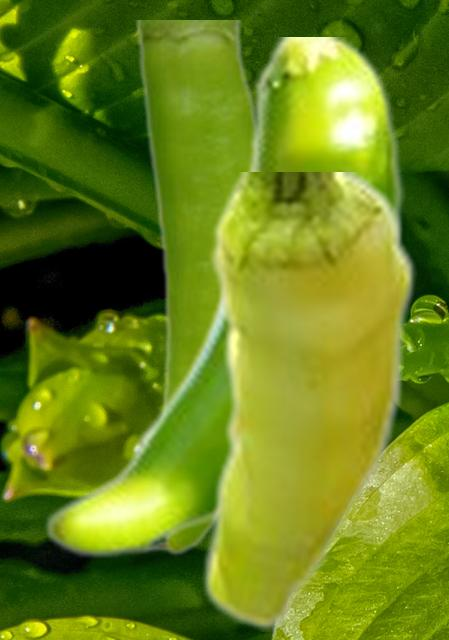green_chili: (42, 37, 404, 559), (200, 172, 416, 630), (133, 20, 252, 555)
